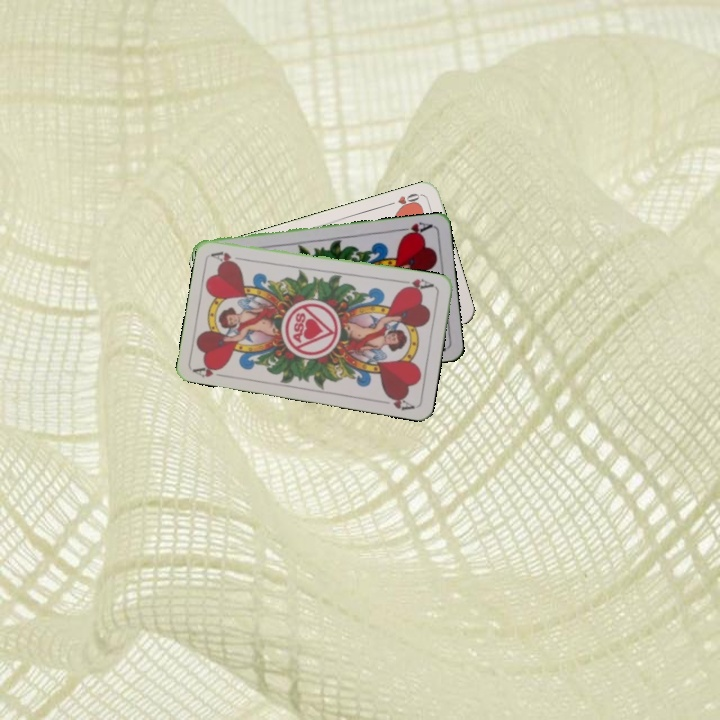HA: (394, 218, 434, 240), (190, 360, 231, 380), (397, 275, 436, 294)
HO: (384, 189, 424, 212)
